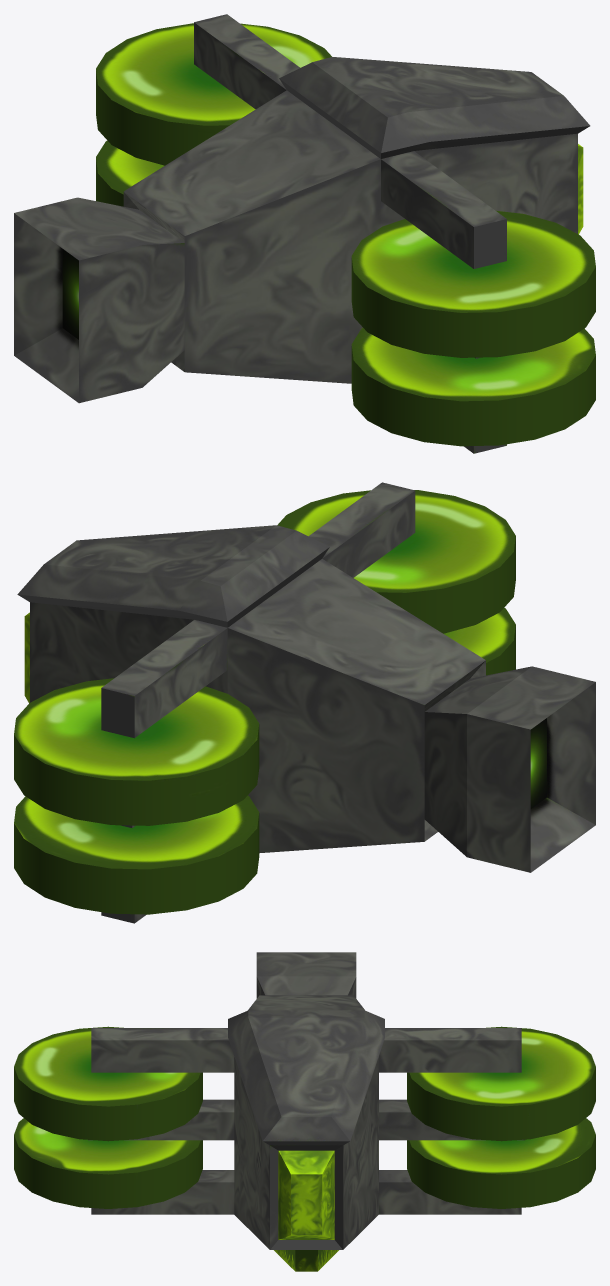
Rendered from TurningGame.fbx.
3 renders of one model, top to bottom at view 1: azimuth 30°, elevation 25°; view 2: azimuth 150°, elevation 25°; view 3: azimuth 270°, elevation 25°, orthographic. The views are drawn at different scales.
Visible parts, largest first — view 1: pCube1, pCylinder1, pCylinder2, pCylinder3, pCylinder4; view 2: pCube1, pCylinder3, pCylinder4, pCylinder1, pCylinder2; view 3: pCube1, pCylinder1, pCylinder3, pCylinder2, pCylinder4.
Boxes of the visible parts, <box> form: pCube1: <box>14,14,590,453</box>; pCylinder1: <box>351,210,595,357</box>; pCylinder2: <box>351,328,595,446</box>; pCylinder3: <box>96,23,331,165</box>; pCylinder4: <box>96,140,164,206</box>; pCube1: <box>17,482,595,923</box>; pCylinder3: <box>14,678,259,825</box>; pCylinder4: <box>14,795,259,914</box>; pCylinder1: <box>277,490,515,633</box>; pCylinder2: <box>443,607,515,675</box>; pCube1: <box>88,952,524,1271</box>; pCylinder1: <box>14,1026,202,1141</box>; pCylinder3: <box>407,1026,595,1141</box>; pCylinder2: <box>14,1118,202,1208</box>; pCylinder4: <box>407,1118,595,1208</box>.
Size of the model in its own units: 4.95 by 2.68 by 6.16.
